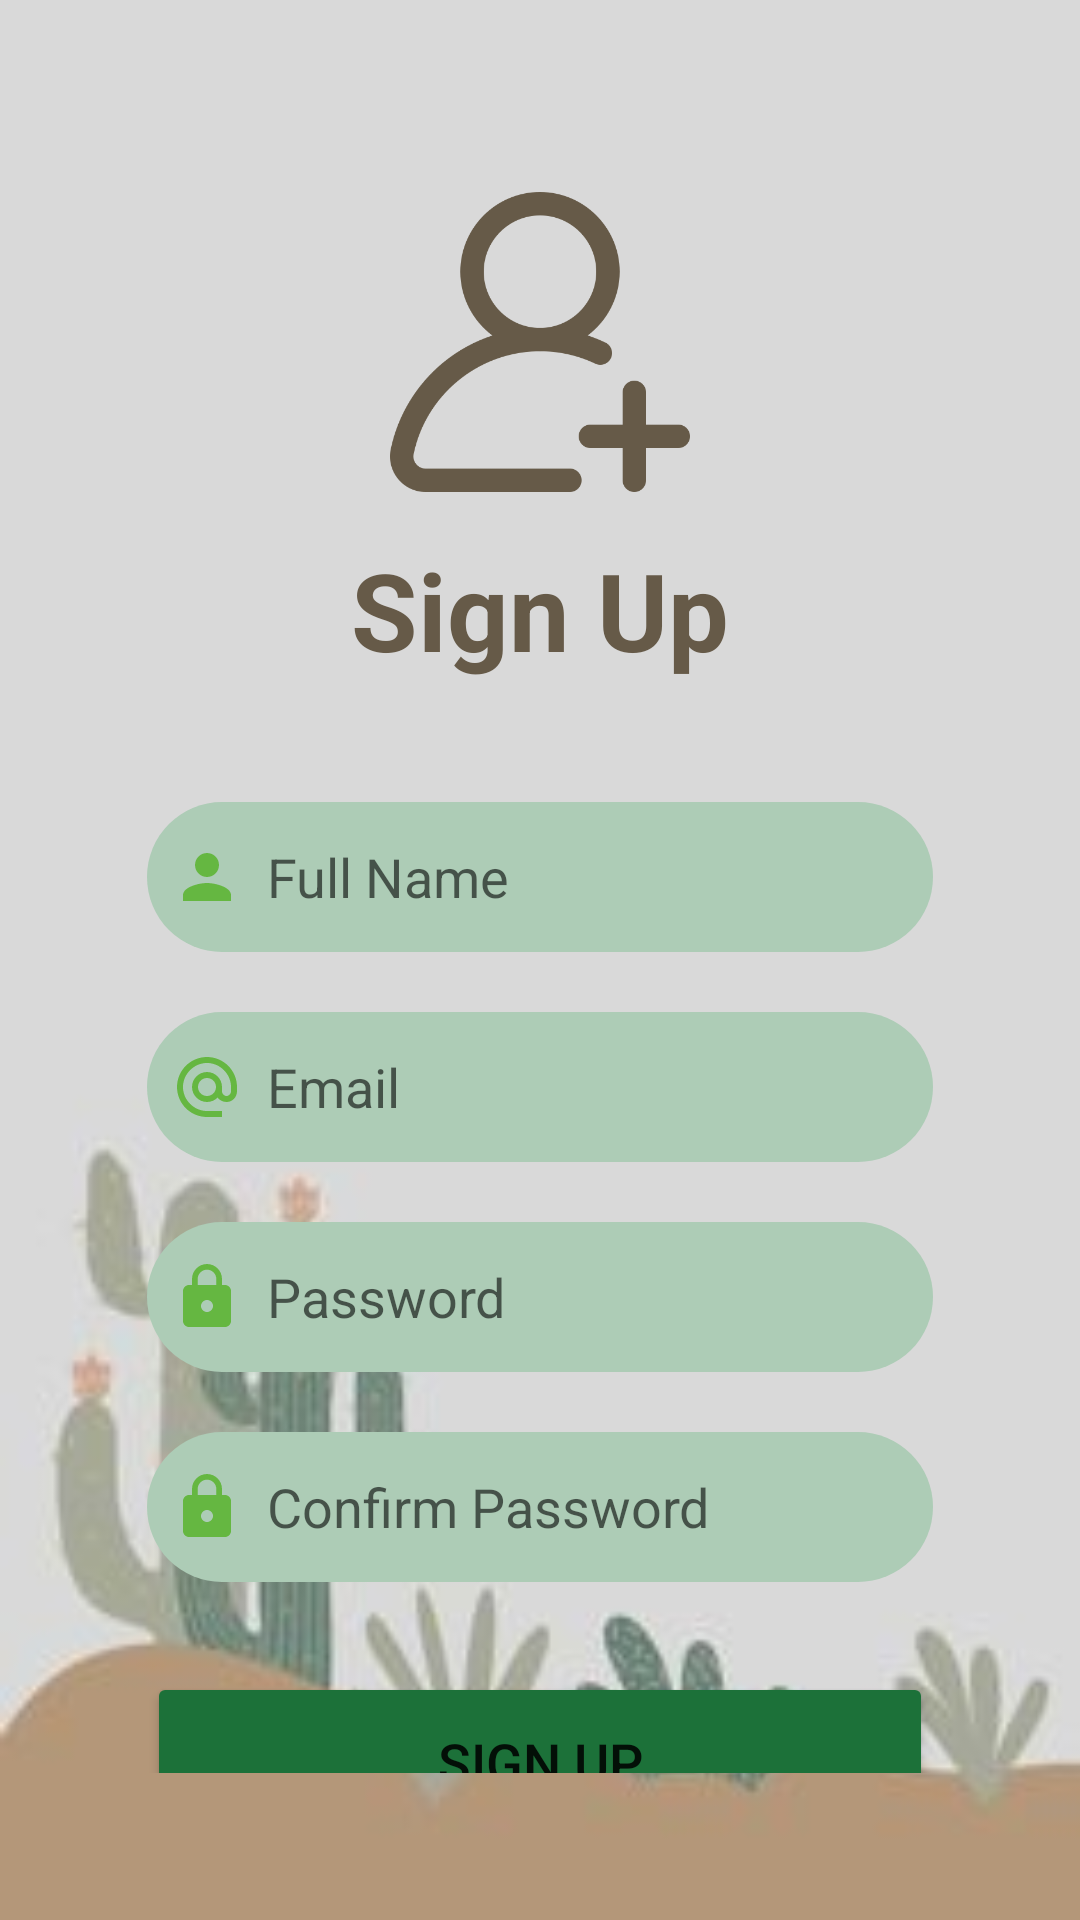

Icons on this 1080 × 1920 Android screen, each with the point to tap as (x,y):
adduser: (540,342)
